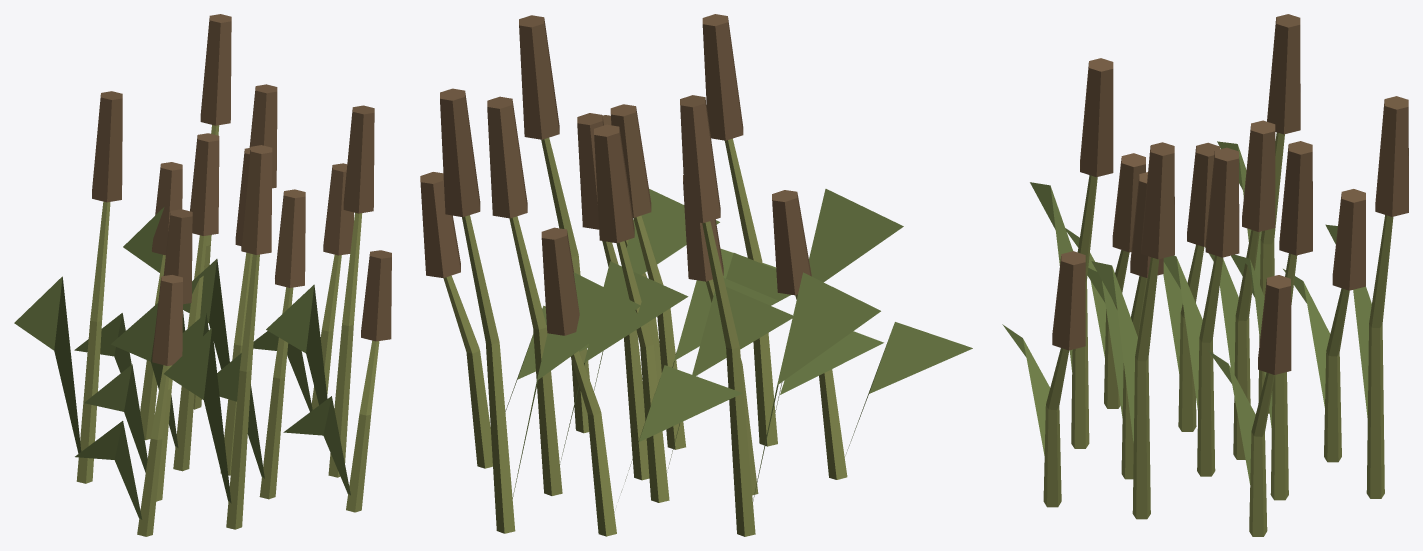
File: reed-cluster.glb
The picture shows the model from 3 angles, left to right: view 1: azimuth 30°, elevation 25°; view 2: azimuth 150°, elevation 25°; view 3: azimuth 270°, elevation 25°; orthographic projection. The views are drawn at different scales.
Parts seen in each view (by area): view 1: reed-cluster; view 2: reed-cluster; view 3: reed-cluster.
Part boxes in pixels (x1,y1,x2,y2): reed-cluster: (14,14,391,536); reed-cluster: (420,14,972,536); reed-cluster: (1002,14,1408,536).
Bounding box in the file's own units: 1.63 × 1.54 × 1.37.
